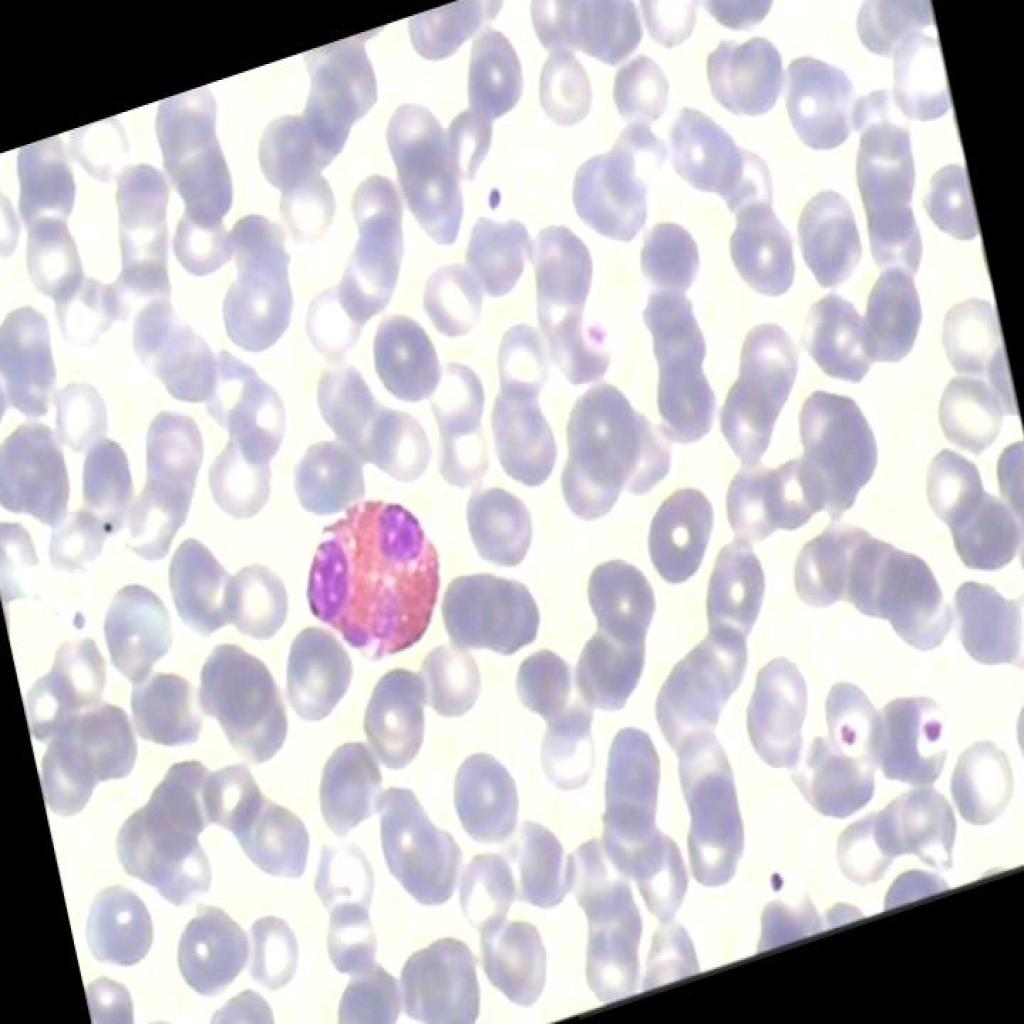Eosinofil: (272, 466, 469, 692)
Platelet: (471, 158, 523, 242), (53, 594, 101, 652), (819, 706, 859, 762), (761, 851, 801, 905), (917, 708, 953, 754), (831, 0, 886, 20)
